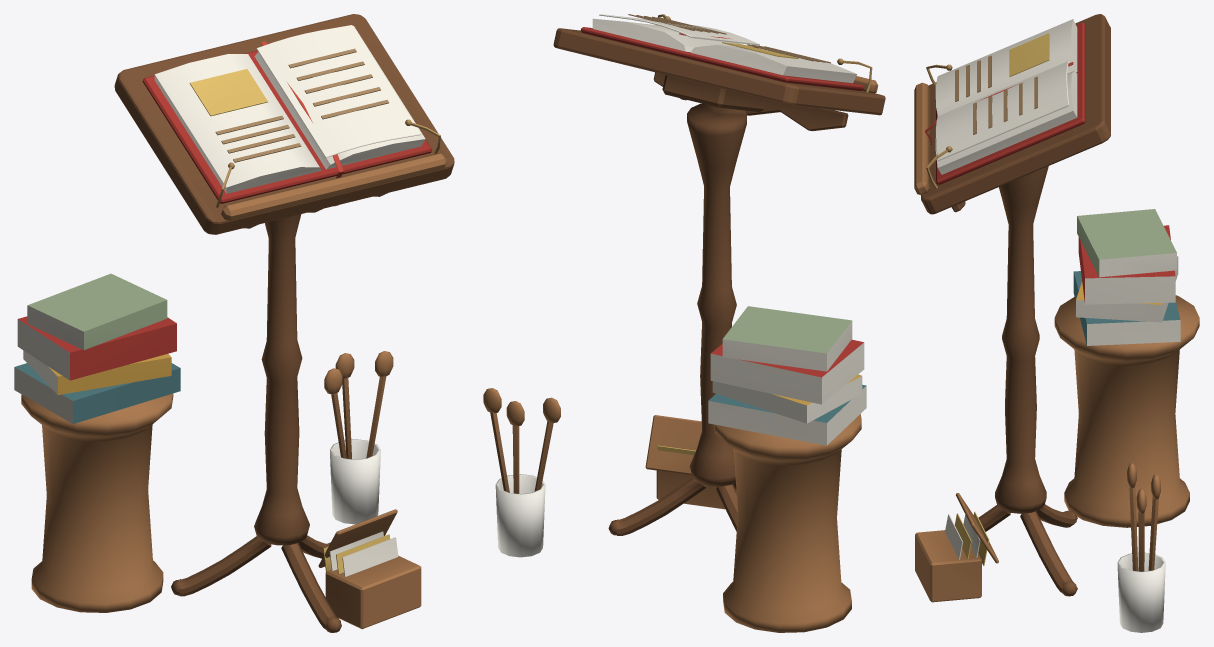
The model's file is cookbookLectern.glb.
3 renders of one model, left to right at view 1: azimuth 30°, elevation 25°; view 2: azimuth 150°, elevation 25°; view 3: azimuth 270°, elevation 25°, orthographic. The views are drawn at different scales.
Visible parts, largest first — view 1: body, page; view 2: body, page; view 3: body, page.
Boxes of the visible parts, bbox=[...] form: body: bbox=[14, 14, 454, 632]; page: bbox=[256, 25, 421, 157]; body: bbox=[483, 14, 885, 632]; page: bbox=[599, 14, 759, 45]; body: bbox=[914, 14, 1199, 632]; page: bbox=[935, 61, 1068, 161].
Size of the model in its own units: 0.8359 by 1.15 by 0.5905.
